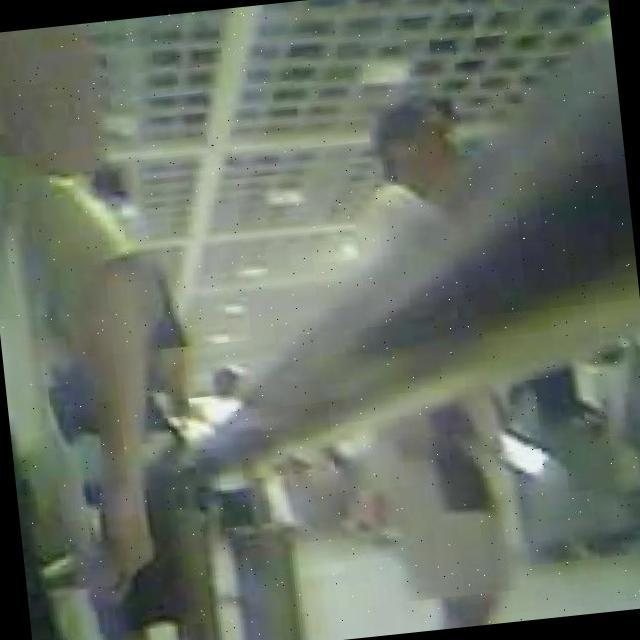person: (351, 90, 534, 632), (0, 148, 173, 640), (192, 342, 274, 524)
